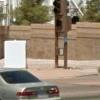Car: (3, 59, 66, 100)
